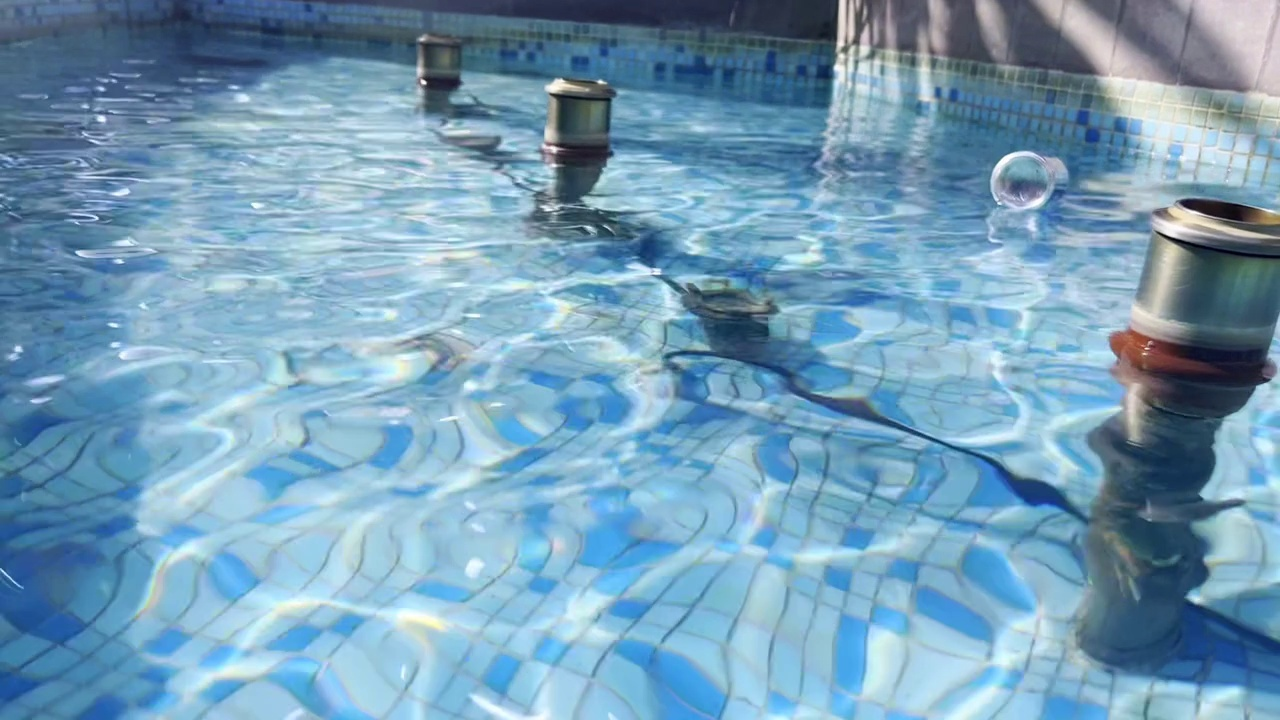debris: (986, 140, 1080, 218)
